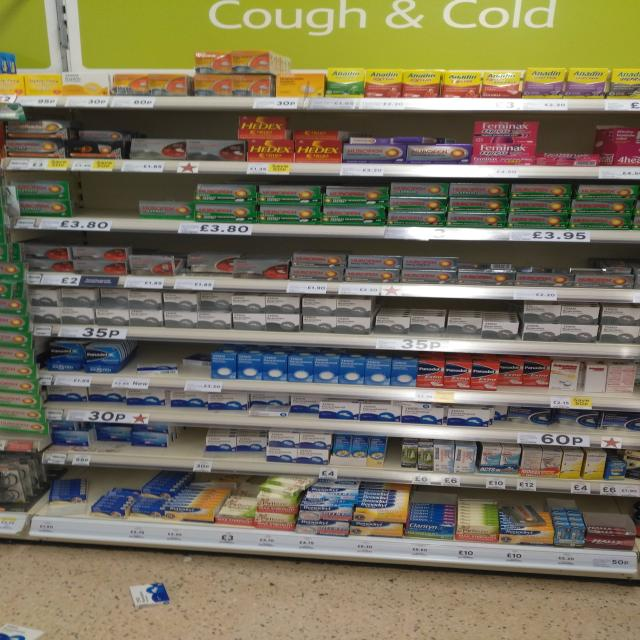void: (69, 178, 108, 230), (109, 178, 142, 232), (172, 427, 202, 470)
